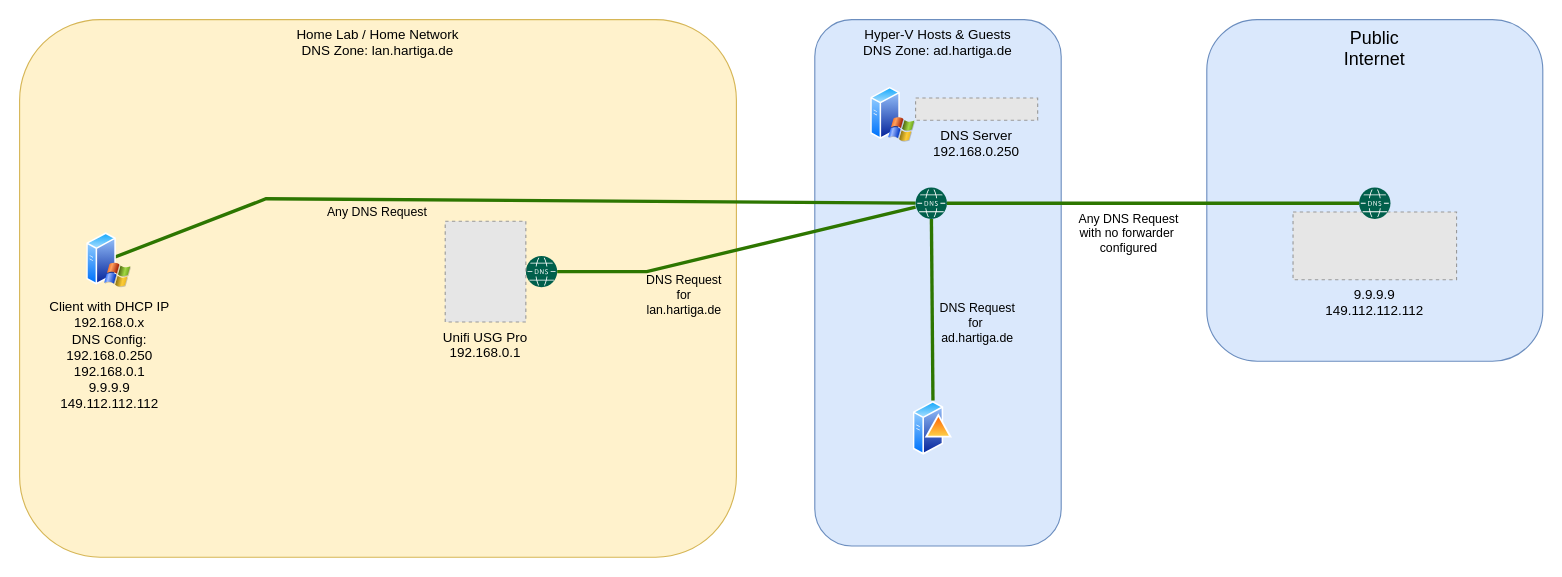
Some shapes in this 1562 by 577 pixel diagram are drawn without their labels. Grey dashed boxes stand in for pictures. Each missing label, with the centre of its shape:
"DC-2025 192.168.0.230" belongs at (x=932, y=428).
"Windows Server with Technitium" belongs at (x=892, y=114).
